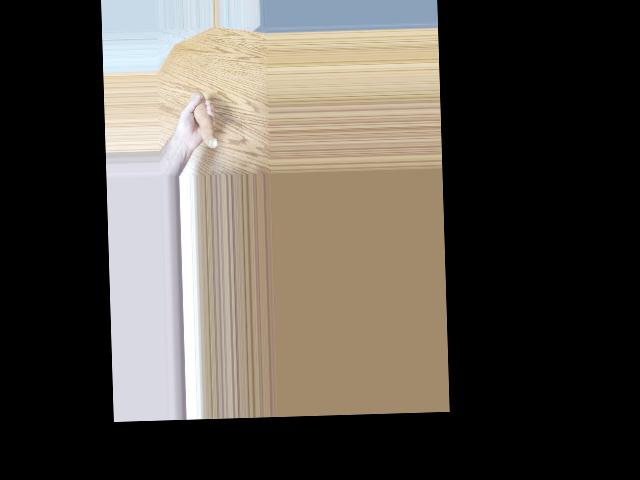sweet_potato: (191, 87, 217, 152)
